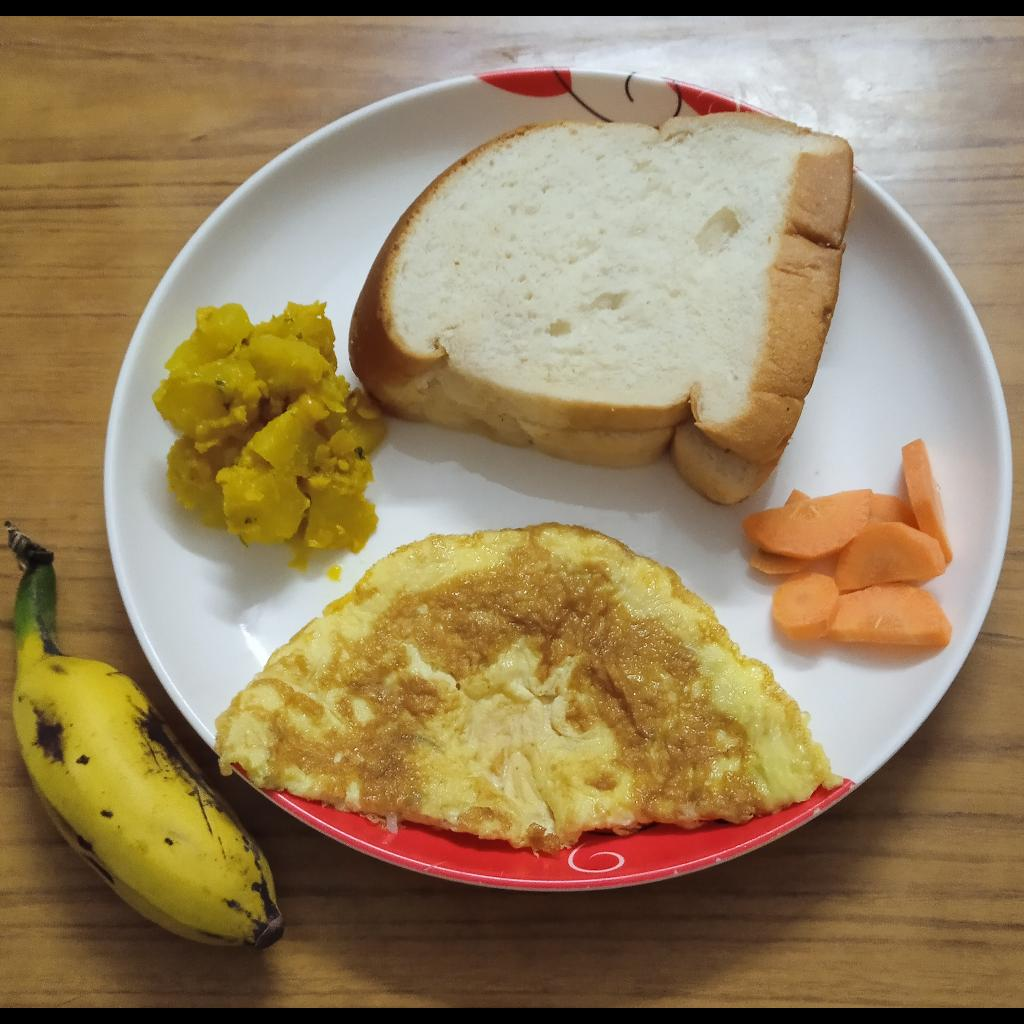banana: (6, 568, 284, 954)
bread: (346, 110, 852, 510)
carrot: (738, 436, 959, 647)
egg-poached: (216, 520, 837, 855)
lau: (147, 301, 391, 576)
